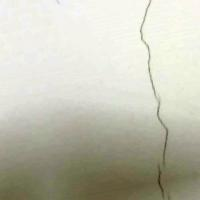crack: (119, 1, 196, 199)
